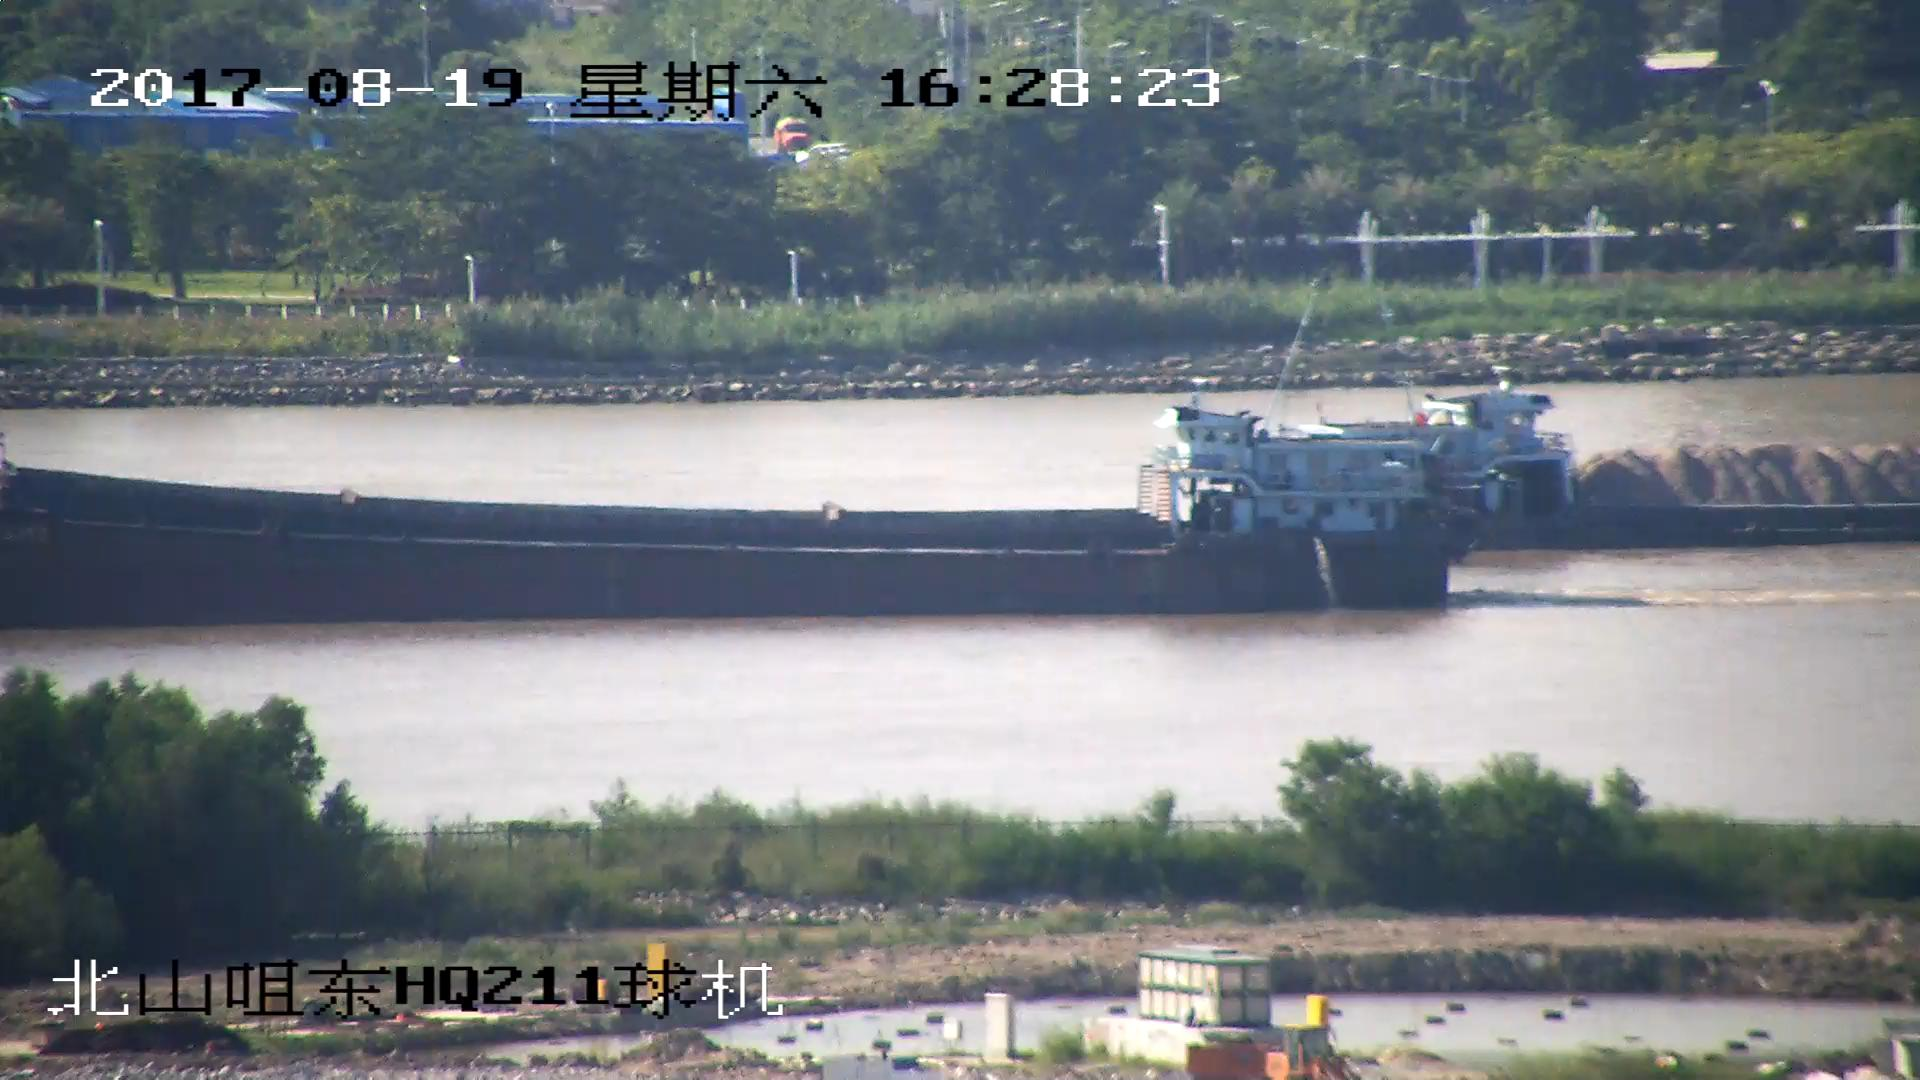bulk cargo carrier: (1, 406, 1469, 616)
ore carrier: (1351, 389, 1920, 542)
